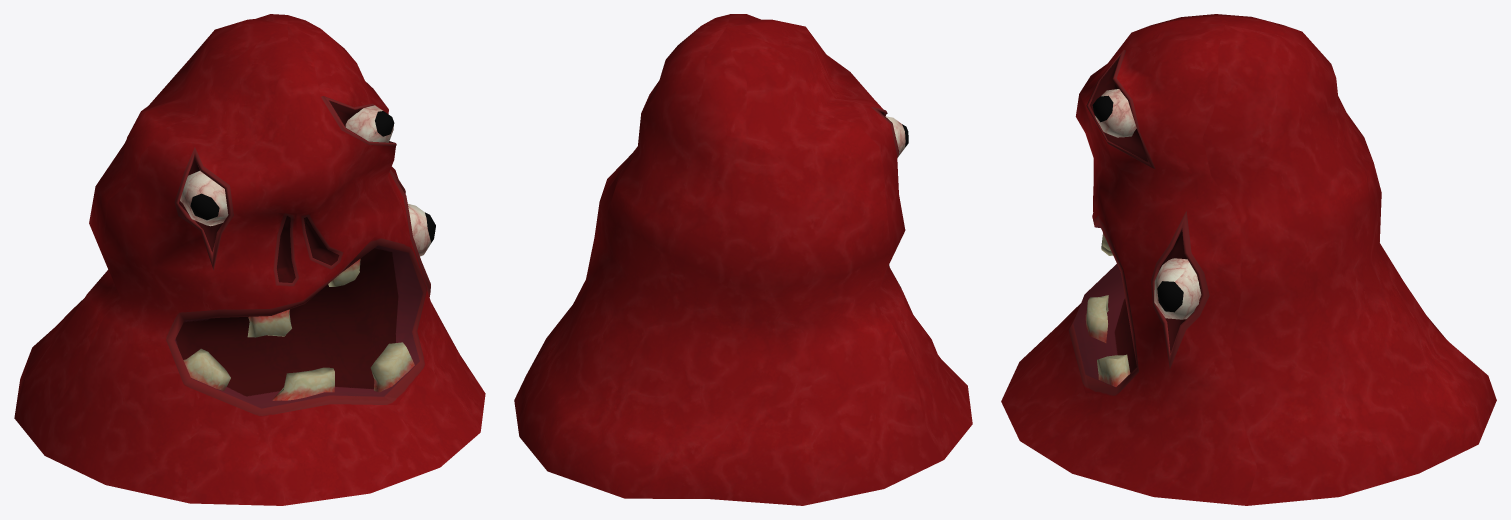
The model's file is mutant_monster._low_poly.glb.
3 views of the same model, side by side, from view 1: azimuth 30°, elevation 25°; view 2: azimuth 150°, elevation 25°; view 3: azimuth 270°, elevation 25° (orthographic). The views are drawn at different scales.
Visible parts, largest first — view 1: Enemy, Eye.3, Eye.1, Eye.2; view 2: Enemy; view 3: Enemy, Eye.2, Eye.1.
Part boxes in pixels (<box>): Enemy: <box>14,14,485,505</box>; Eye.3: <box>180,171,228,226</box>; Eye.1: <box>345,105,394,142</box>; Eye.2: <box>408,204,435,256</box>; Enemy: <box>514,14,972,505</box>; Enemy: <box>1001,14,1496,505</box>; Eye.2: <box>1154,258,1201,319</box>; Eye.1: <box>1092,89,1136,137</box>.
Size of the model in its own units: 5.47 by 4.81 by 5.53.
Materials: 2 (2 with a texture image).
